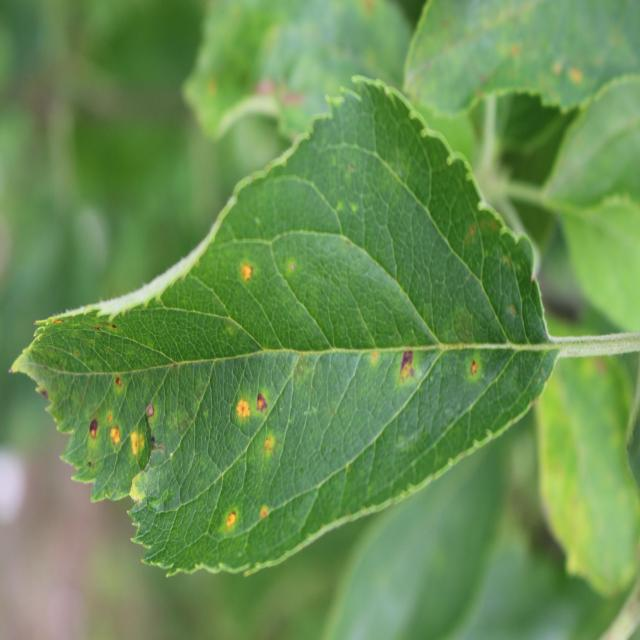Rust: (222, 248, 258, 302), (247, 369, 276, 420), (462, 351, 490, 396), (396, 344, 425, 383), (86, 413, 108, 461), (123, 427, 147, 470), (222, 499, 245, 542), (255, 425, 276, 469), (256, 498, 276, 541), (106, 413, 128, 450), (227, 396, 254, 421)
